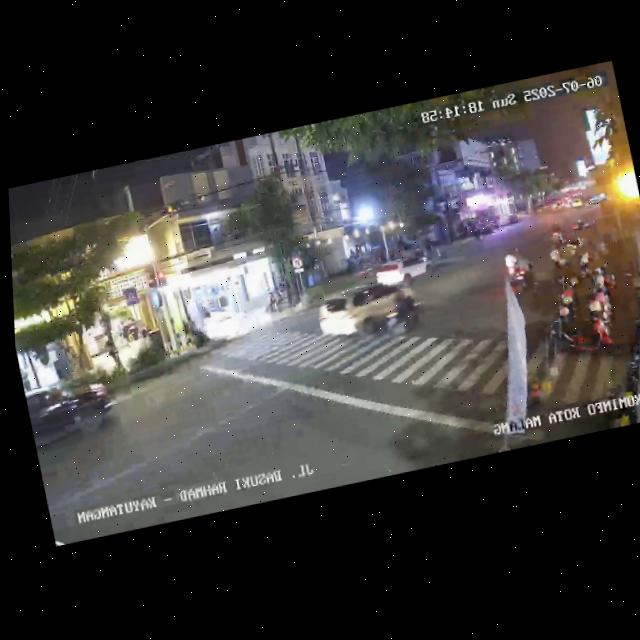car: (25, 373, 127, 460), (311, 275, 413, 347), (372, 248, 437, 293)
motorcycle: (380, 279, 429, 342), (501, 246, 536, 294), (545, 231, 573, 272)
person: (106, 339, 123, 371), (22, 371, 32, 393)
